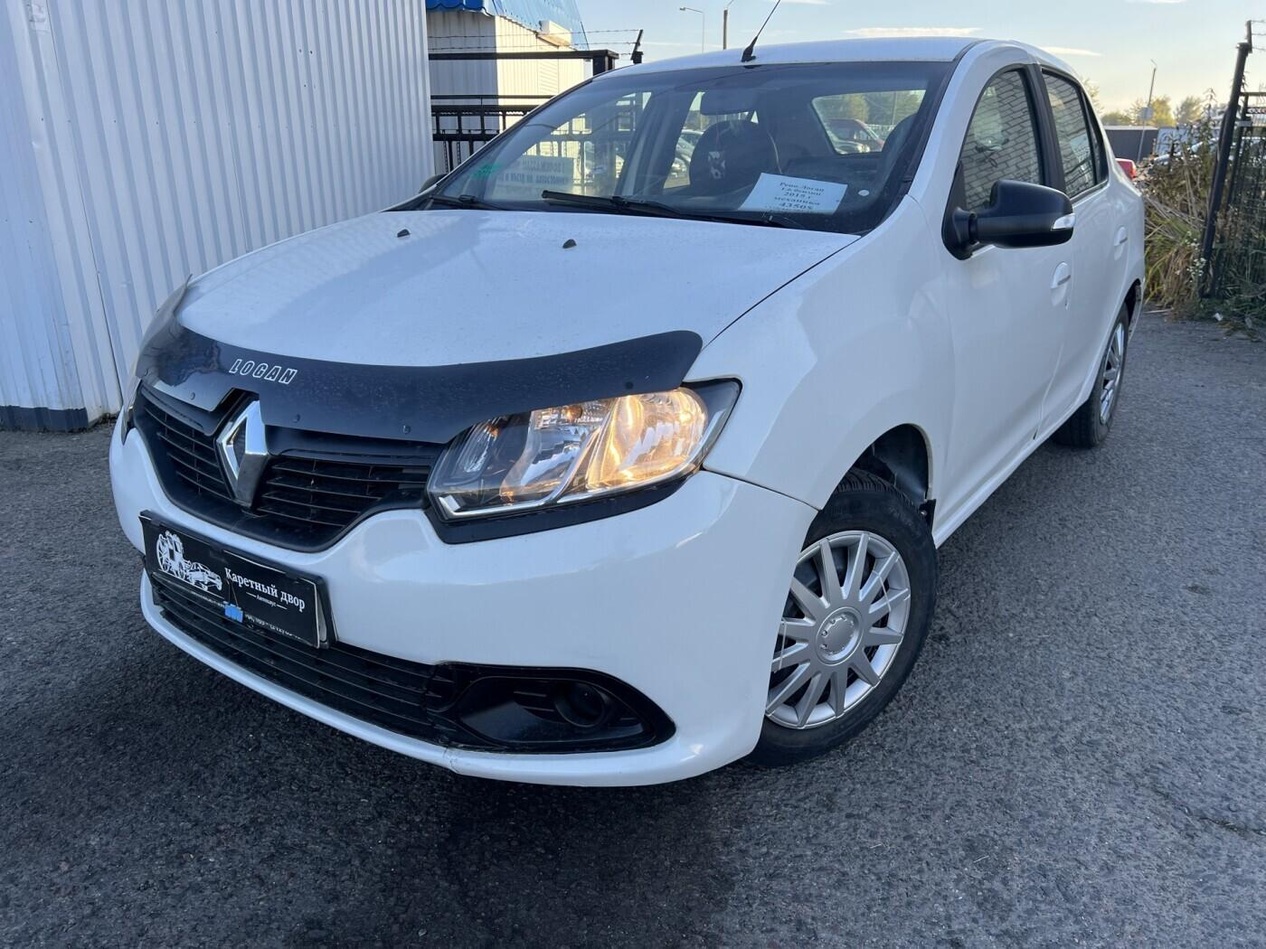Logan_2013-2018: (106, 32, 1156, 786)
